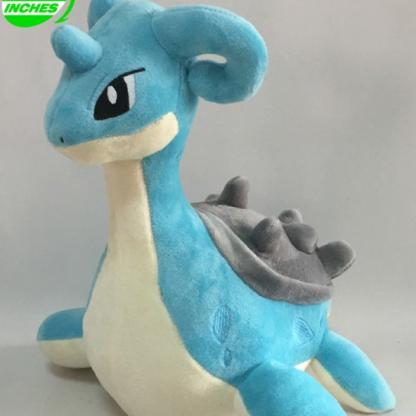Lapras: (19, 1, 416, 416)
